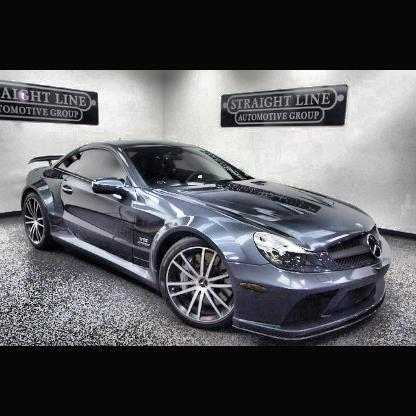Mercedes-Benz SL-Class Coupe 2009: (23, 140, 394, 340)
